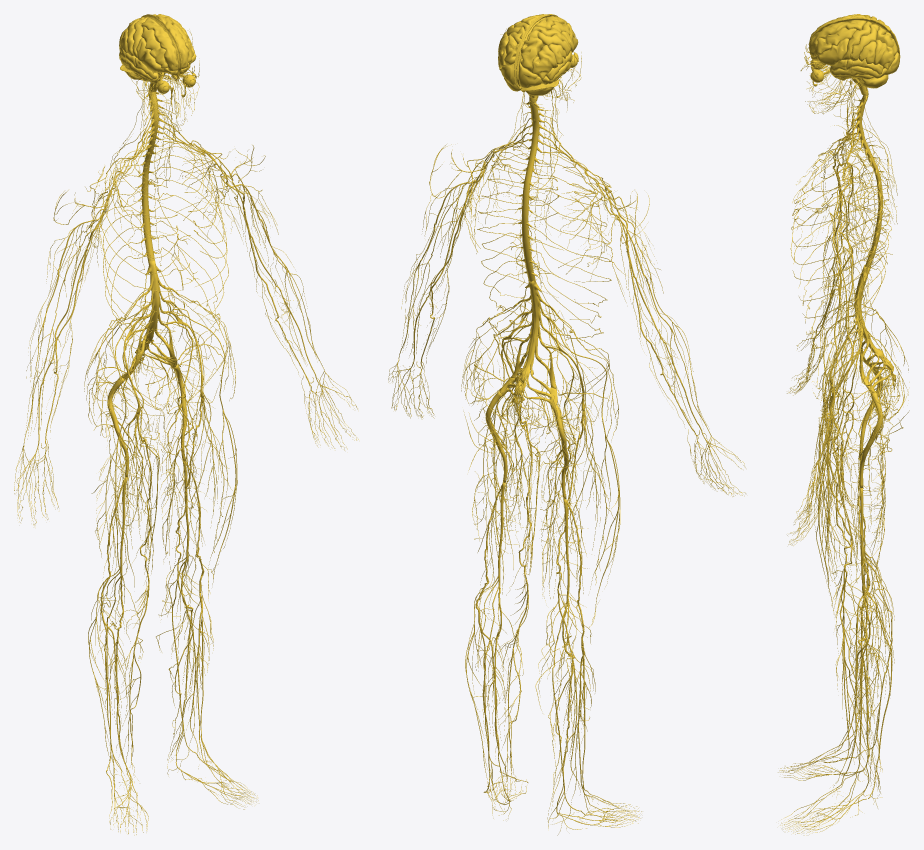
The model's file is nervous.glb.
3 renders of one model, left to right at view 1: azimuth 30°, elevation 25°; view 2: azimuth 150°, elevation 25°; view 3: azimuth 270°, elevation 25°, orthographic. The views are drawn at different scales.
Parts seen in each view (by area): view 1: ZA743C006C, ZA985B873E, ZAFF4D5DA0, ZA9DB7973F, ZA00FBF7A8, ZA66428FED, ZACEB07384, ZAEC361466, ZAFDB77A76, ZA81E13E9A, ZA8C967A4A, ZAD250CB8C (+1 smaller); view 2: ZA743C006C, ZAFF4D5DA0, ZA9DB7973F, ZA985B873E, ZAEC361466, ZA81E13E9A, ZA66428FED, ZACEB07384, ZA00FBF7A8, ZAFDB77A76, ZA8C967A4A, ZA0900C7E7 (+1 smaller); view 3: ZAFF4D5DA0, ZA743C006C, ZACEB07384, ZA985B873E, ZAEC361466, ZAFDB77A76, ZA81E13E9A, ZA9DB7973F, ZA66428FED, ZAD250CB8C, ZA62598DE8, ZA00FBF7A8 (+43 smaller).
Part boxes in pixels (x1,y1,x2,y2): ZA743C006C: (139, 88, 164, 265); ZA985B873E: (95, 477, 137, 772); ZAFF4D5DA0: (161, 461, 198, 761); ZA9DB7973F: (135, 260, 166, 386); ZA00FBF7A8: (91, 311, 139, 606); ZA66428FED: (99, 376, 142, 534); ZACEB07384: (156, 564, 212, 768); ZAEC361466: (162, 364, 200, 522); ZAFDB77A76: (174, 303, 237, 584); ZA81E13E9A: (116, 574, 149, 782); ZA8C967A4A: (111, 398, 152, 576); ZAD250CB8C: (183, 371, 232, 552); ZA743C006C: (518, 97, 545, 283); ZAFF4D5DA0: (472, 482, 517, 798); ZA9DB7973F: (512, 279, 546, 430); ZA985B873E: (541, 499, 581, 810); ZAEC361466: (476, 391, 522, 547); ZA81E13E9A: (535, 588, 594, 819); ZA66428FED: (541, 405, 580, 559); ZACEB07384: (496, 579, 528, 809); ZA00FBF7A8: (554, 324, 620, 611); ZAFDB77A76: (468, 315, 519, 594); ZA8C967A4A: (566, 389, 615, 584); ZA0900C7E7: (540, 387, 588, 616); ZAFF4D5DA0: (856, 488, 891, 788); ZA743C006C: (855, 91, 882, 270); ZACEB07384: (830, 577, 885, 790); ZA985B873E: (856, 461, 891, 765); ZAEC361466: (851, 392, 884, 548); ZAFDB77A76: (814, 318, 861, 614); ZA81E13E9A: (832, 564, 885, 770); ZA9DB7973F: (854, 264, 896, 398); ZA66428FED: (850, 369, 884, 528); ZAD250CB8C: (823, 400, 848, 583); ZA62598DE8: (837, 594, 890, 788); ZA00FBF7A8: (814, 312, 862, 571).
Bounding box in the file's own units: 0.7931 × 1.7 × 0.2625.
